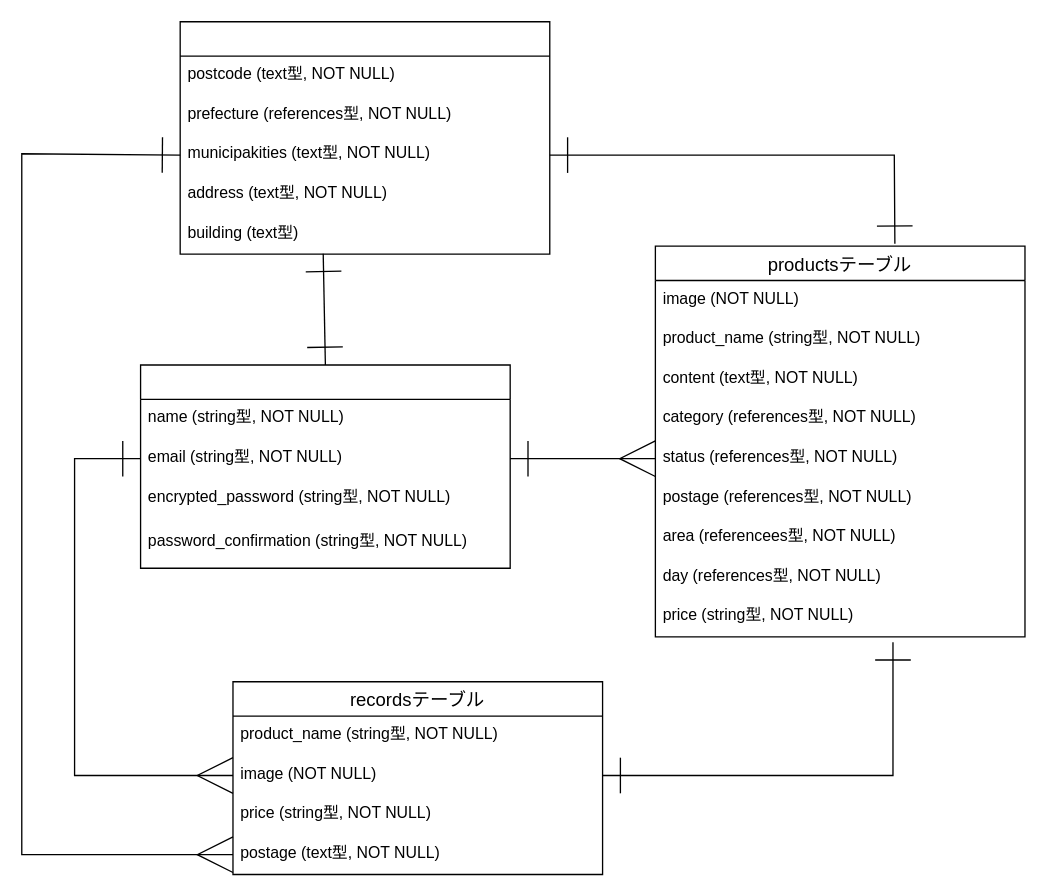
Some shapes in this 1047 by 896 pixel diagram are drawn without their labels. Here are the shapes that lost their labels. From the top down, the box of each, then its label:
(179, 20, 550, 254): destinations テーブル
(139, 364, 510, 568): usersテーブル
